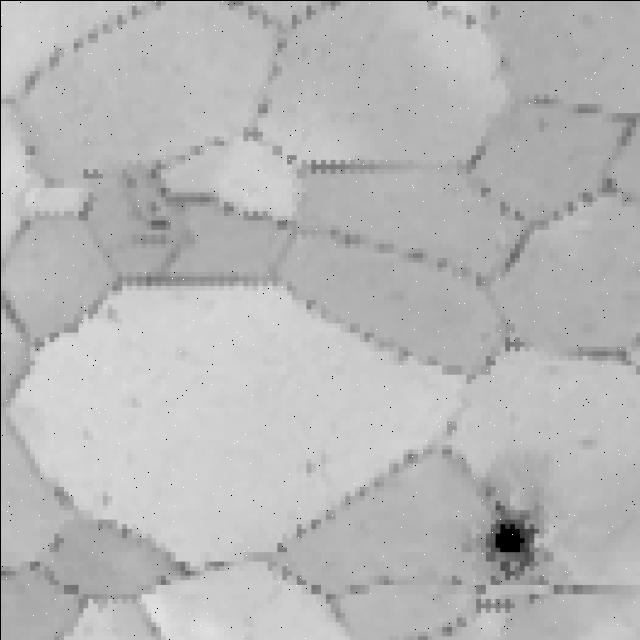good_void: (466, 450, 564, 595), (125, 200, 172, 248), (300, 446, 330, 484)
